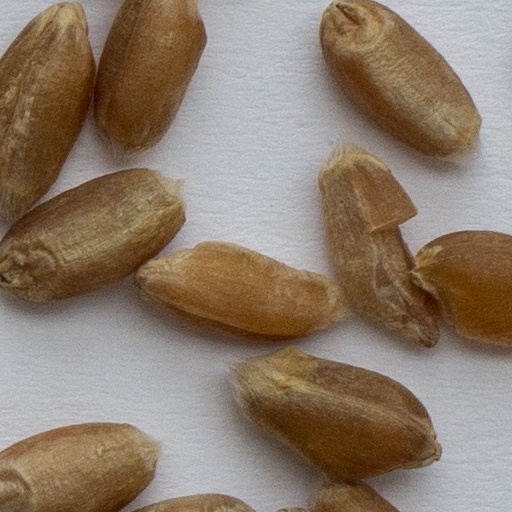Wheat-grain-damaged-poly: (316, 144, 440, 348)
